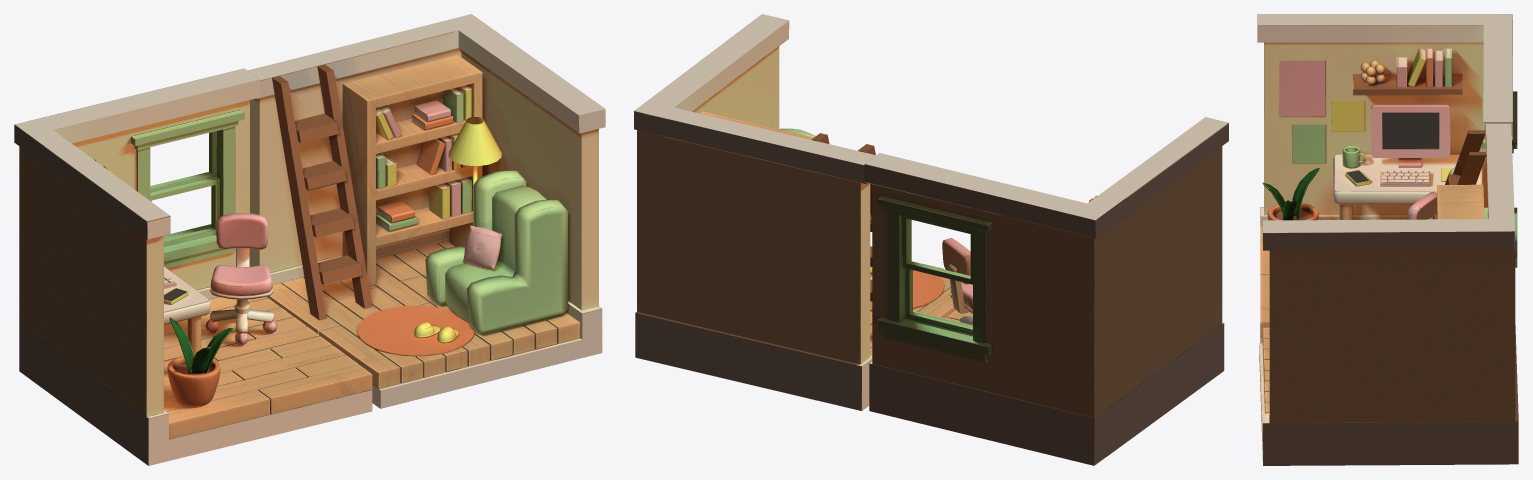
The model's file is office.glb.
3 renders of one model, left to right at view 1: azimuth 30°, elevation 25°; view 2: azimuth 150°, elevation 25°; view 3: azimuth 270°, elevation 25°, orthographic. The views are drawn at different scales.
Visible parts, largest first — view 1: 02_library, 01_office; view 2: 01_office, 02_library; view 3: 02_library, 01_office.
Boxes of the visible parts, bbox=[...] form: 02_library: bbox=[247, 14, 605, 408]; 01_office: bbox=[14, 68, 372, 465]; 01_office: bbox=[864, 117, 1228, 465]; 02_library: bbox=[634, 14, 955, 410]; 02_library: bbox=[1259, 124, 1518, 465]; 01_office: bbox=[1257, 14, 1517, 342].
Size of the model in its own units: 4.53 by 2.31 by 2.31.
2 materials, 2 textured.
